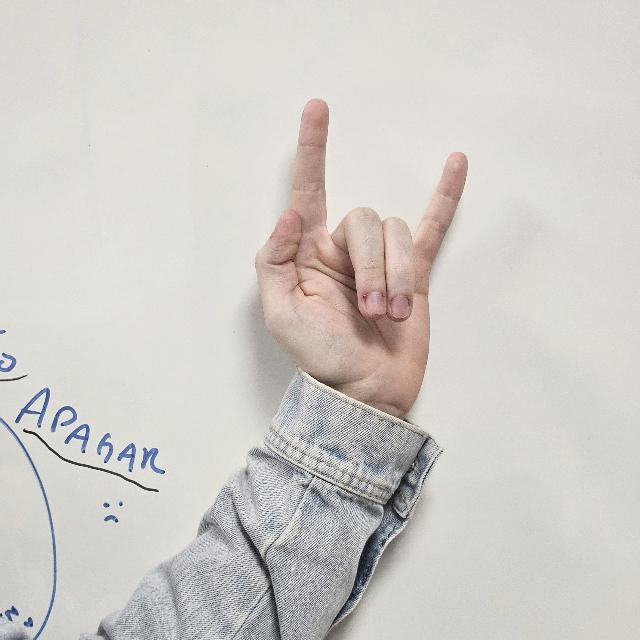L: (254, 97, 471, 423)
